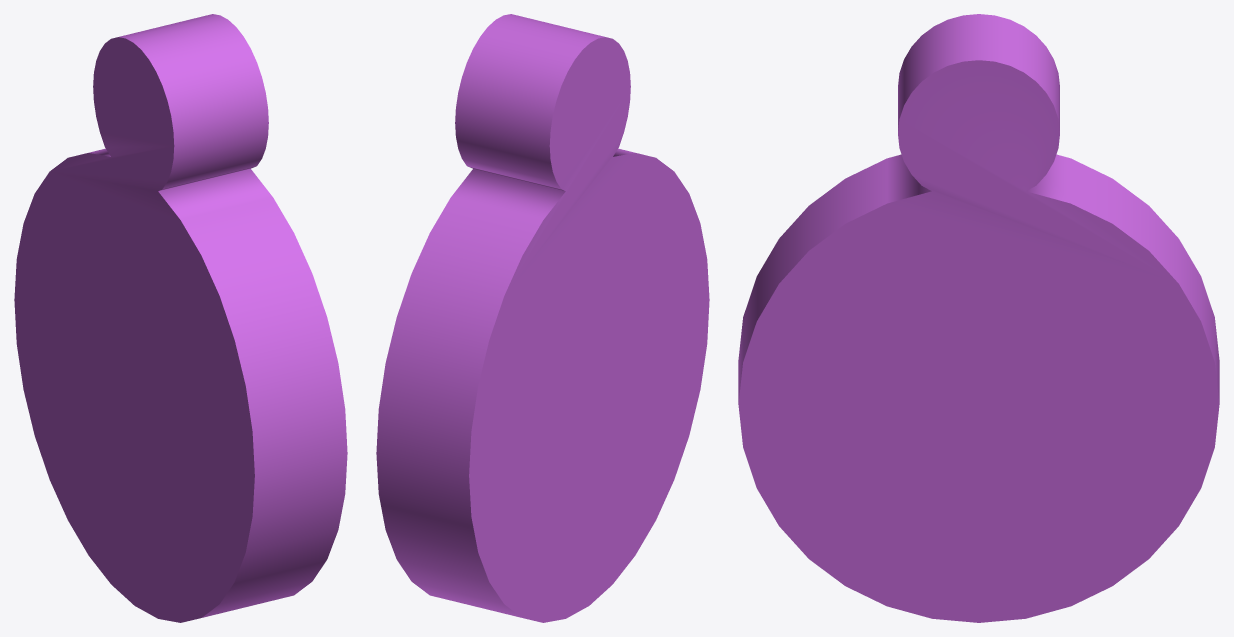
The model's file is GlitchyStopWatch.fbx.
3 views of the same model, side by side, from view 1: azimuth 30°, elevation 25°; view 2: azimuth 150°, elevation 25°; view 3: azimuth 270°, elevation 25° (orthographic).
Visible parts, largest first — view 1: Circle; view 2: Circle; view 3: Circle.
Part boxes in pixels (box(x1,y1,x2,y2)): Circle: box(14, 14, 347, 622); Circle: box(376, 14, 709, 622); Circle: box(738, 14, 1219, 622).
Bounding box in the file's own units: 51.68 × 294 × 227.
